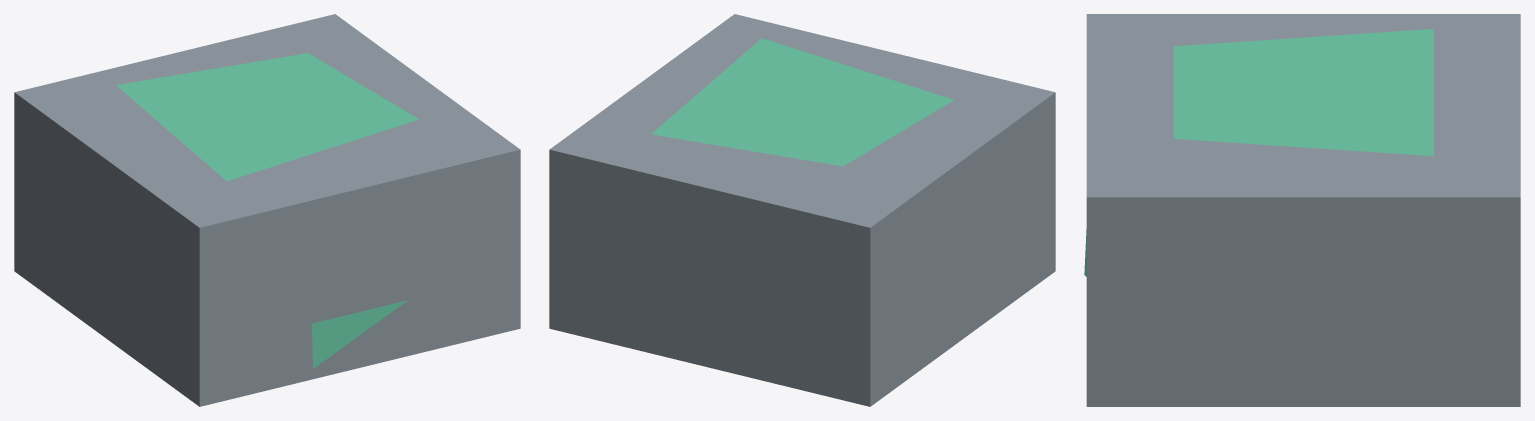
Rendered from CO_Barracks_LOD1.glb.
3 renders of one model, left to right at view 1: azimuth 30°, elevation 25°; view 2: azimuth 150°, elevation 25°; view 3: azimuth 270°, elevation 25°, orthographic. The views are drawn at different scales.
Parts seen in each view (by area): view 1: EntranceGate; view 2: EntranceGate; view 3: EntranceGate.
Boxes of the visible parts, x1,y1,x2,y2 form: EntranceGate: [14, 14, 520, 406]; EntranceGate: [549, 14, 1055, 406]; EntranceGate: [1084, 14, 1520, 406].
Bounding box in the file's own units: 600 × 353 × 603.
